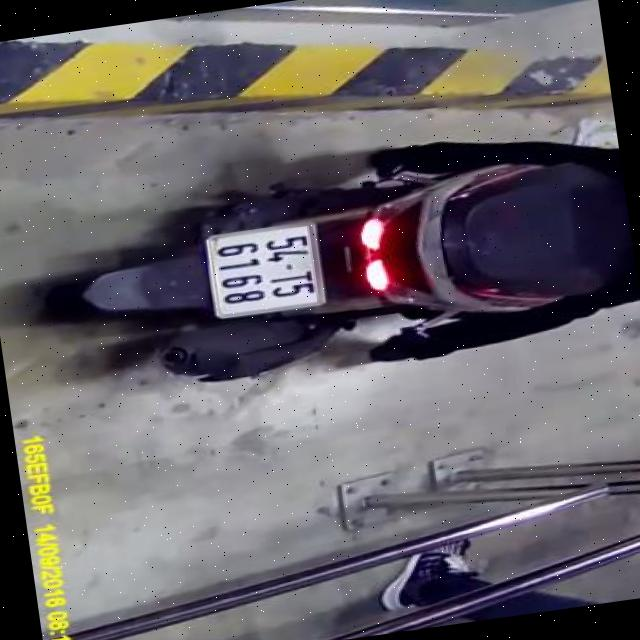license_plate: (196, 218, 324, 328)
